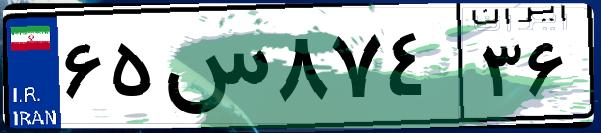3: (475, 38, 525, 113)
4: (385, 28, 445, 110)
5: (110, 28, 158, 98)
6: (57, 26, 110, 100), (525, 38, 570, 115)
7: (330, 28, 385, 110)
8: (270, 28, 330, 110)
س: (158, 20, 270, 120)
